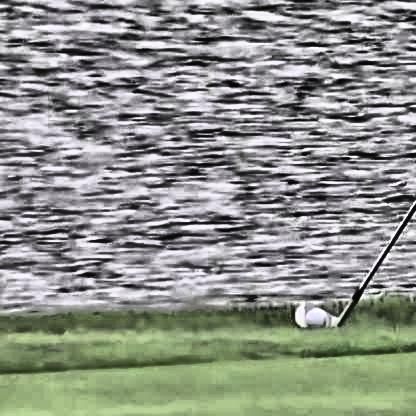golfball: (299, 308, 329, 330)
